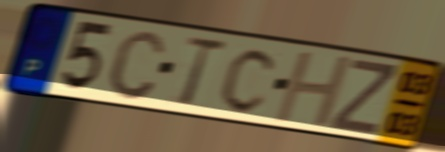5: (58, 18, 119, 94)
C: (106, 27, 169, 102), (217, 45, 280, 115)
H: (271, 50, 356, 129)
T: (177, 35, 230, 110)
Z: (327, 56, 400, 137)
